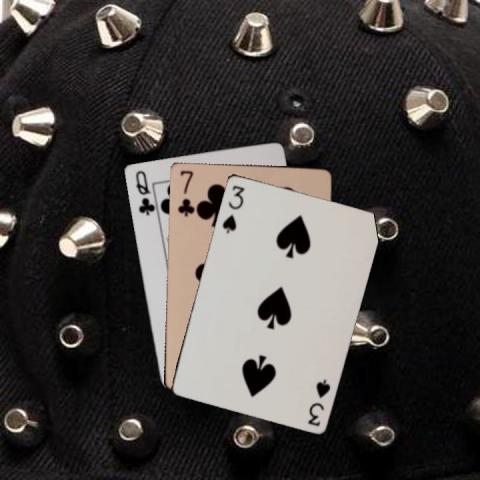3s: (219, 181, 245, 234), (305, 376, 331, 428)
7c: (175, 168, 194, 218)
Qc: (132, 167, 155, 217)
